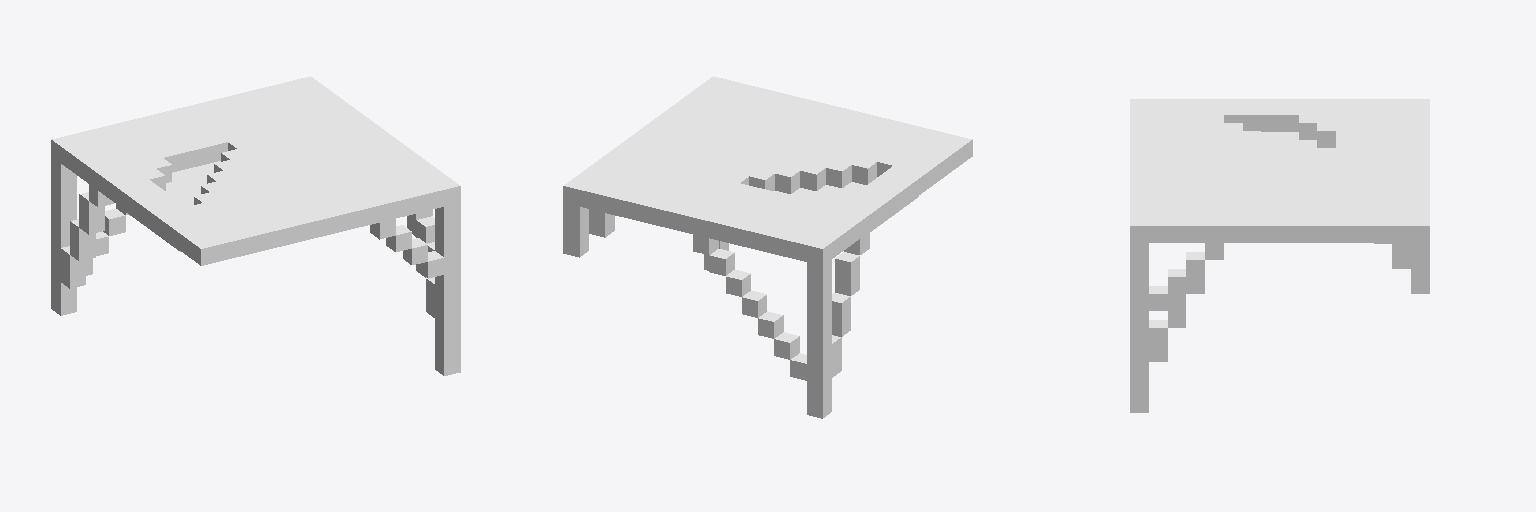
The model's file is wooden-support.obj.
3 renders of one model, left to right at view 1: azimuth 30°, elevation 25°; view 2: azimuth 150°, elevation 25°; view 3: azimuth 270°, elevation 25°, orthographic.
Parts seen in each view (by area): view 1: object 1; view 2: object 1; view 3: object 1.
Boxes of the visible parts, box(x1,y1,x2,y2) form: object 1: box(51, 76, 460, 375); object 1: box(563, 76, 972, 418); object 1: box(1130, 99, 1429, 412).
Size of the model in its own units: 1.6 by 1.1 by 1.6.